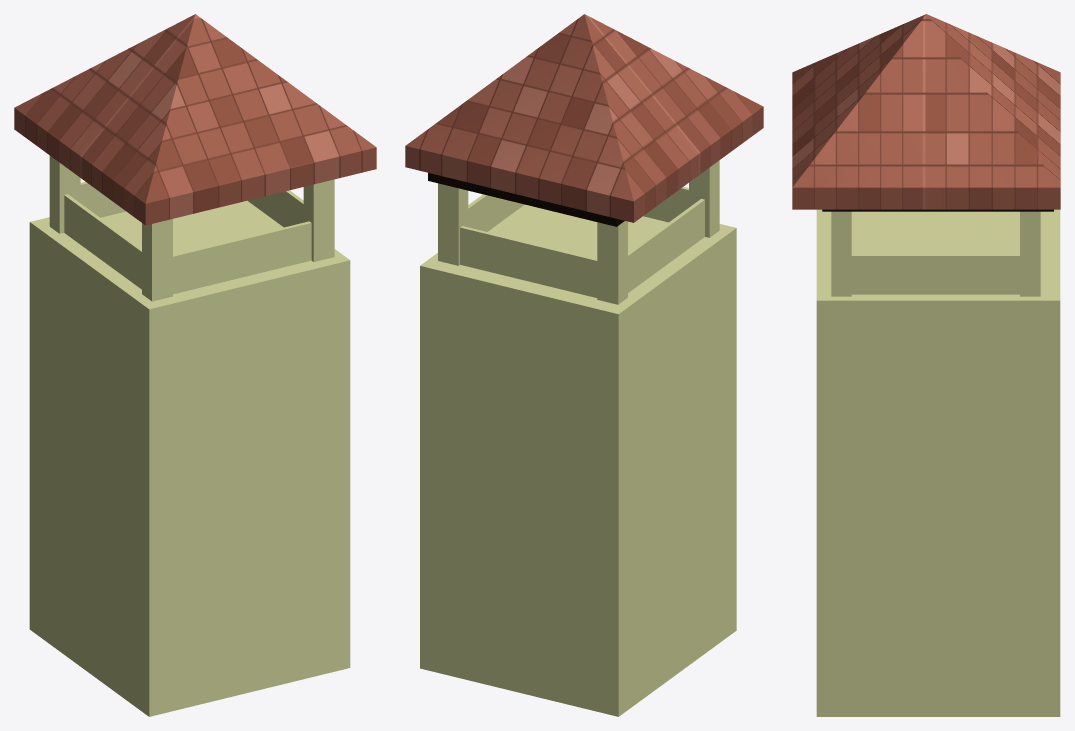
Rendered from tower.FBX.
3 views of the same model, side by side, from view 1: azimuth 30°, elevation 25°; view 2: azimuth 150°, elevation 25°; view 3: azimuth 270°, elevation 25° (orthographic). The views are drawn at different scales.
Visible parts, largest first — view 1: Box1476, Box1466, Box1469, Box1474, Box1470, Box1467, Box1473, Box1468, Box1471; view 2: Box1476, Box1466, Box1471, Box1474, Box1473, Box1472, Box1475, Box1470, Box1468, Box1469; view 3: Box1476, Box1466, Box1468, Box1467, Box1472, Box1475.
Part boxes in pixels (x1,y1,x2,y2): Box1476: (29,200,350,716); Box1466: (14,14,376,225); Box1469: (173,221,311,294); Box1474: (64,194,141,289); Box1470: (142,219,172,301); Box1467: (303,179,334,261); Box1473: (49,155,80,233); Box1468: (248,190,303,227); Box1471: (80,181,125,217); Box1476: (420,204,736,716); Box1466: (405,14,763,222); Box1471: (460,226,597,297); Box1474: (628,198,704,292); Box1473: (597,221,627,304); Box1472: (438,183,468,265); Box1475: (428,173,624,226); Box1470: (689,160,719,237); Box1468: (468,194,524,231); Box1469: (643,186,688,222); Box1476: (816,209,1060,716); Box1466: (792,14,1060,209); Box1468: (851,254,1019,294); Box1467: (831,211,851,296); Box1472: (1020,211,1040,296); Box1475: (822,209,1053,211).
Bounding box in the file's own units: 11.87 × 31.37 × 11.68.
3 materials, 1 textured.
